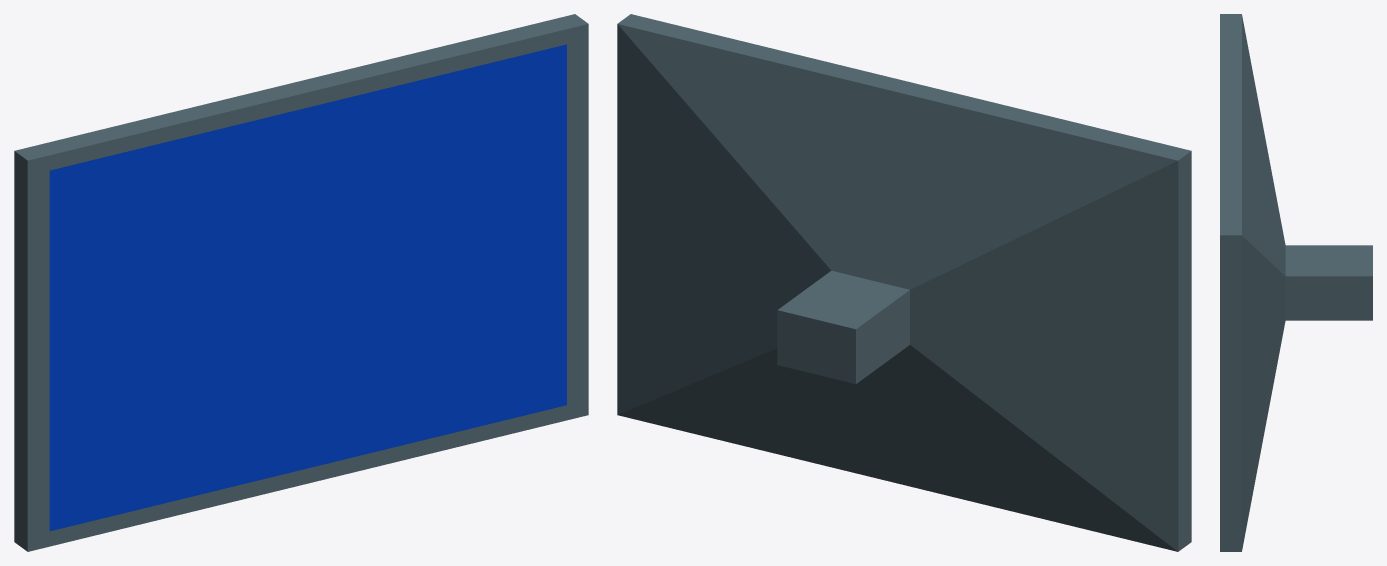
The model's file is BigScreen.fbx.
The picture shows the model from 3 angles, left to right: view 1: azimuth 30°, elevation 25°; view 2: azimuth 150°, elevation 25°; view 3: azimuth 270°, elevation 25°; orthographic projection. The views are drawn at different scales.
Visible parts, largest first — view 1: Cube.001; view 2: Cube.001; view 3: Cube.001.
Part boxes in pixels (x1=…): Cube.001: x1=14, y1=14, x2=588, y2=551; Cube.001: x1=617, y1=14, x2=1191, y2=551; Cube.001: x1=1220, y1=14, x2=1372, y2=551.
Bounding box in the file's own units: 600 × 400 × 175.
